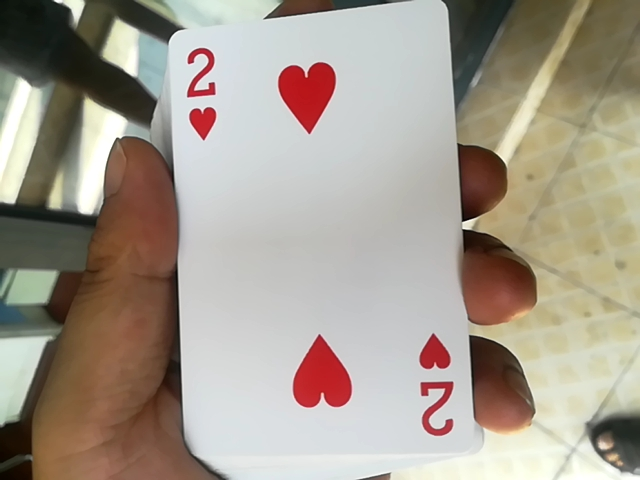hx 2: (150, 6, 480, 468)
